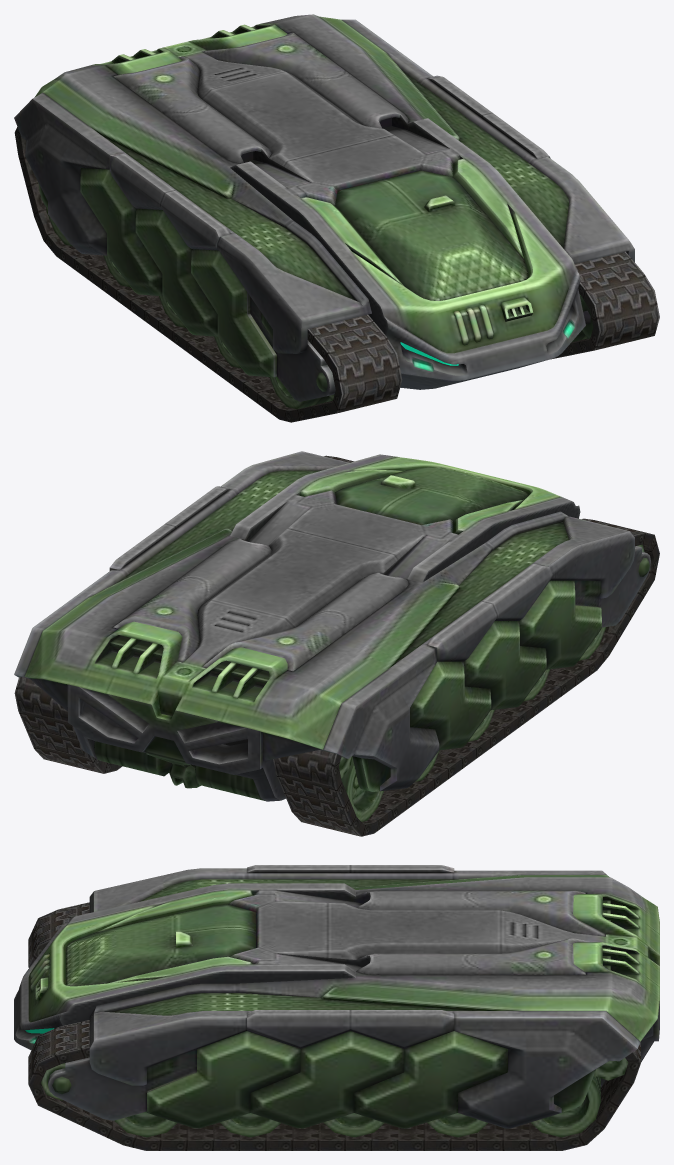
The model's file is hornet_20.gltf.
The picture shows the model from 3 angles, top to bottom: view 1: azimuth 30°, elevation 25°; view 2: azimuth 150°, elevation 25°; view 3: azimuth 270°, elevation 25°; orthographic projection. The views are drawn at different scales.
Visible parts, largest first — view 1: hull; view 2: hull; view 3: hull.
Boxes of the visible parts, bbox=[...] form: hull: bbox=[14, 14, 659, 422]; hull: bbox=[14, 451, 659, 836]; hull: bbox=[14, 865, 659, 1150].
Bounding box in the file's own units: 3.05 × 1.35 × 5.22.
Materials: 3 (3 with a texture image).
